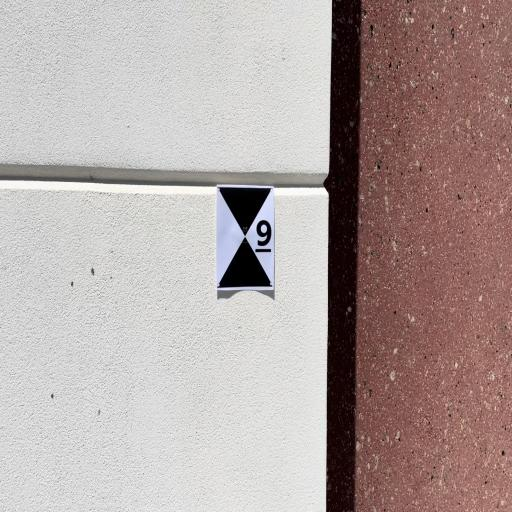target9: (216, 184, 274, 290)
